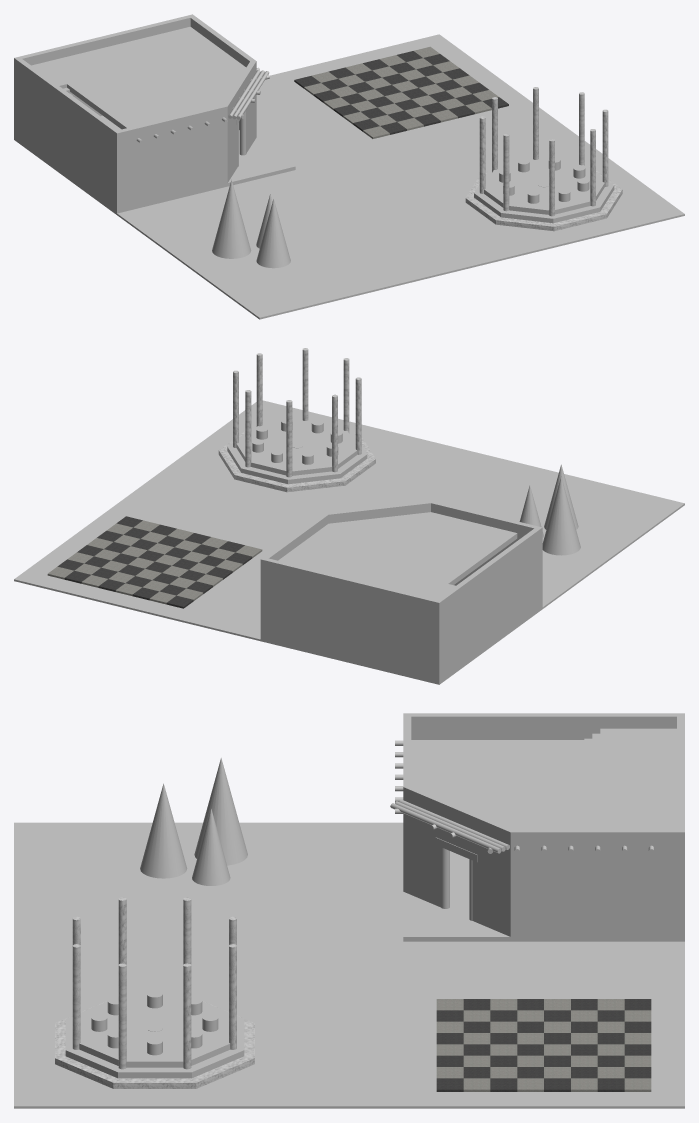
Rendered from tile1.dae.
3 renders of one model, top to bottom at view 1: azimuth 30°, elevation 25°; view 2: azimuth 150°, elevation 25°; view 3: azimuth 270°, elevation 25°, orthographic. The views are drawn at different scales.
Parts seen in each view (by area): view 1: group_4, group_1, group_35, group_13, group_7, group_9, group_12, group_2, group_3, group_23, group_6 (×2), group_8 (×2) (+10 smaller); view 2: group_8, group_35, group_4, group_13, group_7, group_12, group_1, group_3, group_23, group_24, group_5, group_6 (+9 smaller); view 3: group_1, group_4, group_35, group_13, group_10, group_12, group_3, group_2, group_23, group_7 (×2), group_6 (×2), group_34 (+17 smaller).
Part boxes in pixels (<box>): group_4: <box>156,199,438,319</box>; group_1: <box>256,81,506,275</box>; group_35: <box>39,26,245,129</box>; group_13: <box>403,139,684,259</box>; group_7: <box>14,57,122,209</box>; group_9: <box>119,105,227,208</box>; group_12: <box>264,34,541,153</box>; group_2: <box>117,170,334,243</box>; group_3: <box>364,110,578,181</box>; group_23: <box>484,159,604,214</box>; group_6 (×2): <box>14,115,295,214</box>; group_8 (×2): <box>19,14,195,116</box>; group_8: <box>260,557,436,677</box>; group_35: <box>278,512,517,597</box>; group_4: <box>446,460,684,580</box>; group_13: <box>157,400,437,514</box>; group_7: <box>434,526,542,679</box>; group_12: <box>14,504,281,624</box>; group_1: <box>192,443,505,641</box>; group_3: <box>117,475,320,543</box>; group_23: <box>236,420,357,475</box>; group_24: <box>218,427,375,492</box>; group_5: <box>542,476,580,555</box>; group_6: <box>260,604,542,684</box>; group_1: <box>14,941,684,987</box>; group_4: <box>14,822,295,941</box>; group_35: <box>411,740,676,828</box>; group_13: <box>14,987,295,1108</box>; group_10: <box>510,829,676,936</box>; group_12: <box>403,987,684,1108</box>; group_3: <box>295,987,403,1108</box>; group_2: <box>295,822,403,941</box>; group_23: <box>79,995,230,1067</box>; group_7 (×2): <box>403,713,684,739</box>; group_6 (×2): <box>403,851,684,941</box>; group_34: <box>471,813,513,936</box>.
Size of the model in its own units: 984 by 984 by 189.
